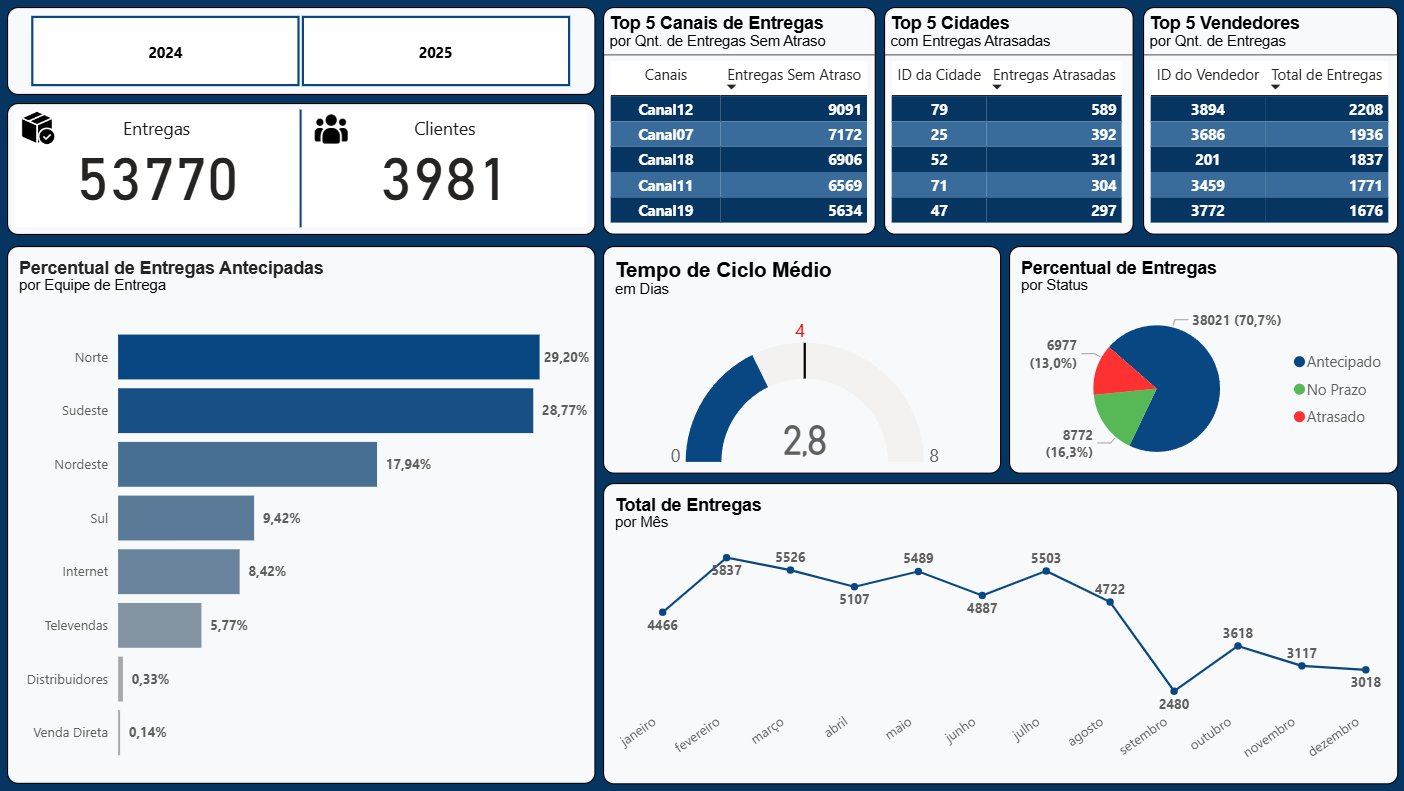

What the dashboard file says about the page in this screenshot:
{"tool":"powerbi","page":{"name":"Dashboard","canvas":[1280,720],"ordinal":0},"visuals":[{"type":"tableEx","title":"Top 5 Canais de Entregas","fields":{"Values":["Logistica.Canal_Entrega","Tabela.Entregas_no_Prazo"]},"box":[550,7.3,248.2,207.3],"z":0},{"type":"barChart","title":"Percentual de Entregas Antecipadas","fields":{"Category":["Logistica.Equipe_Entrega"],"Y":["Medidas.Entregas_Antecipadas"]},"box":[8.2,224.5,535.5,489.1],"z":1000},{"type":"lineChart","title":"Total de Entregas","fields":{"Y":["Medidas.Total_Entregas"],"Category":["Logistica.Data_Entrega_Realizada.Variation.Hierarquia de datas.Mês"]},"box":[550,440,722.7,273.6],"z":2000},{"type":"tableEx","title":"Top 5 Vendedores","fields":{"Values":["Logistica.ID_Vendedor","Tabela.Total_Entregas"]},"box":[1040.9,7.3,231.8,207.3],"z":3000},{"type":"tableEx","title":"Top 5 Cidades","fields":{"Values":["Logistica.ID_Cidade","Tabela.Entragas_Atrasadas"]},"box":[805.5,7.3,227.3,207.3],"z":4000},{"type":"pieChart","title":"Percentual de Entregas","fields":{"Category":["Logistica.Status_Entrega"],"Y":["Divide(CountNonNull(Logistica.Status_Entrega), ScopedEval(CountNonNull(Logistica.Status_Entrega), []))"]},"box":[919.1,224.5,353.6,207.3],"z":5000},{"type":"gauge","title":"Tempo de Ciclo Médio","fields":{"Y":["Avg(Logistica.Dias_Entrega)"]},"box":[550,224.5,361.8,207.3],"z":6000},{"type":"cardVisual","title":"Entregas","fields":{"Data":["Medidas.Total_Entregas","Count(Logistica.ID_Cliente)"]},"box":[8.2,94.9,535.5,119.6],"z":7000,"group":"g1"},{"type":"slicer","title":"Selecione o Período","fields":{"Values":["Logistica.Data_Entrega_Realizada.Variation.Hierarquia de datas.Ano"]},"box":[8.2,7.3,534.5,80],"z":8000},{"type":"image","box":[8.2,94.5,55.4,46],"z":9000,"group":"g1"},{"type":"image","box":[280.6,98.1,44.7,39.7],"z":10000,"group":"g1"},{"type":"group","id":"g1","title":"Grupo 1","box":[8.2,94.5,535.5,120],"z":10001}]}

Visuals, with their boxes in screenshot pixels (x1, y1, x2, y2), scaled from the page's 1280x720 canvas onto the 1404x791 screenshot:
"Top 5 Canais de Entregas" tableEx: BBox(603, 8, 876, 236)
"Percentual de Entregas Antecipadas" barChart: BBox(9, 247, 596, 784)
"Total de Entregas" lineChart: BBox(603, 483, 1396, 784)
"Top 5 Vendedores" tableEx: BBox(1142, 8, 1396, 236)
"Top 5 Cidades" tableEx: BBox(884, 8, 1133, 236)
"Percentual de Entregas" pieChart: BBox(1008, 247, 1396, 474)
"Tempo de Ciclo Médio" gauge: BBox(603, 247, 1000, 474)
"Entregas" cardVisual: BBox(9, 104, 596, 236)
"Selecione o Período" slicer: BBox(9, 8, 595, 96)
image: BBox(9, 104, 70, 154)
image: BBox(308, 108, 357, 151)
"Grupo 1" group: BBox(9, 104, 596, 236)
